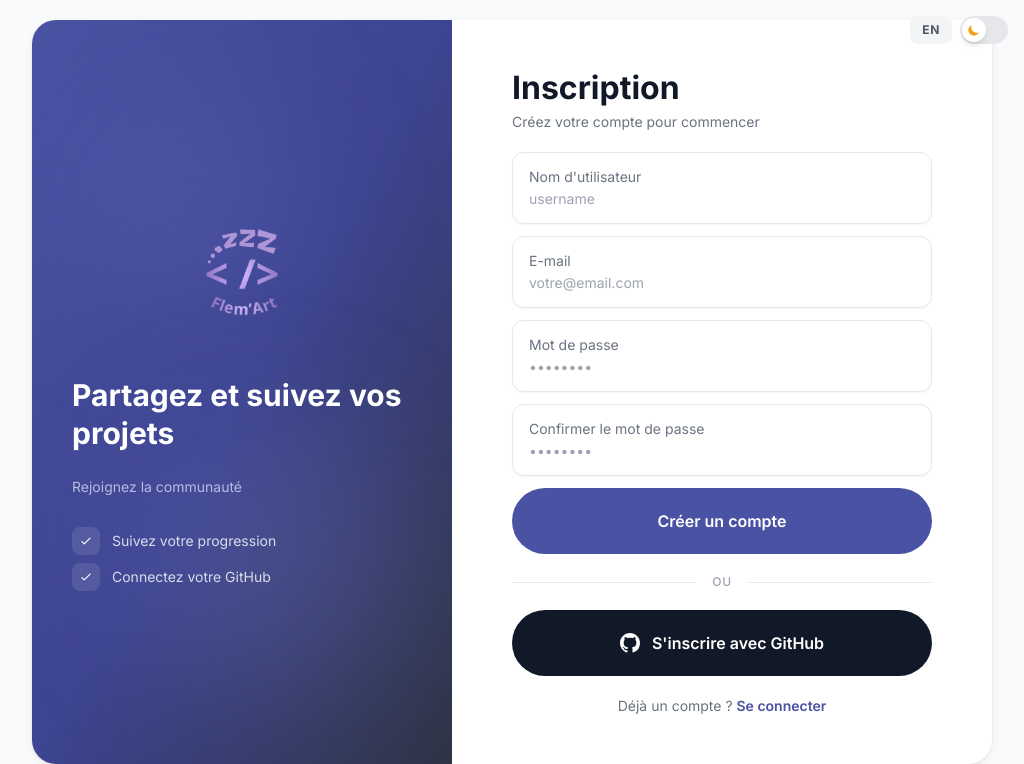
Register Component › should display an error message on failed registration
Type "testuser" into the field with placeholder "username".
click(722, 199); type("testuser")  # box [529,189,915,209]
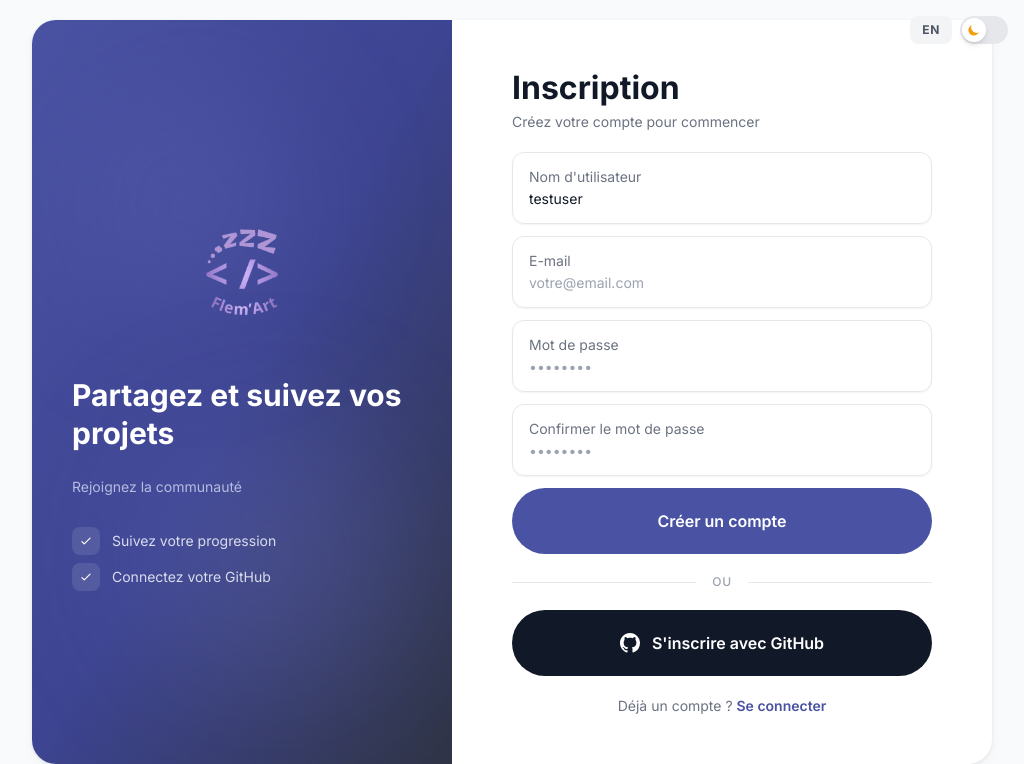
Type "test@example.com" into the field with placeholder "votre@email.com".
click(722, 283); type("test@example.com")  # box [529,273,915,293]
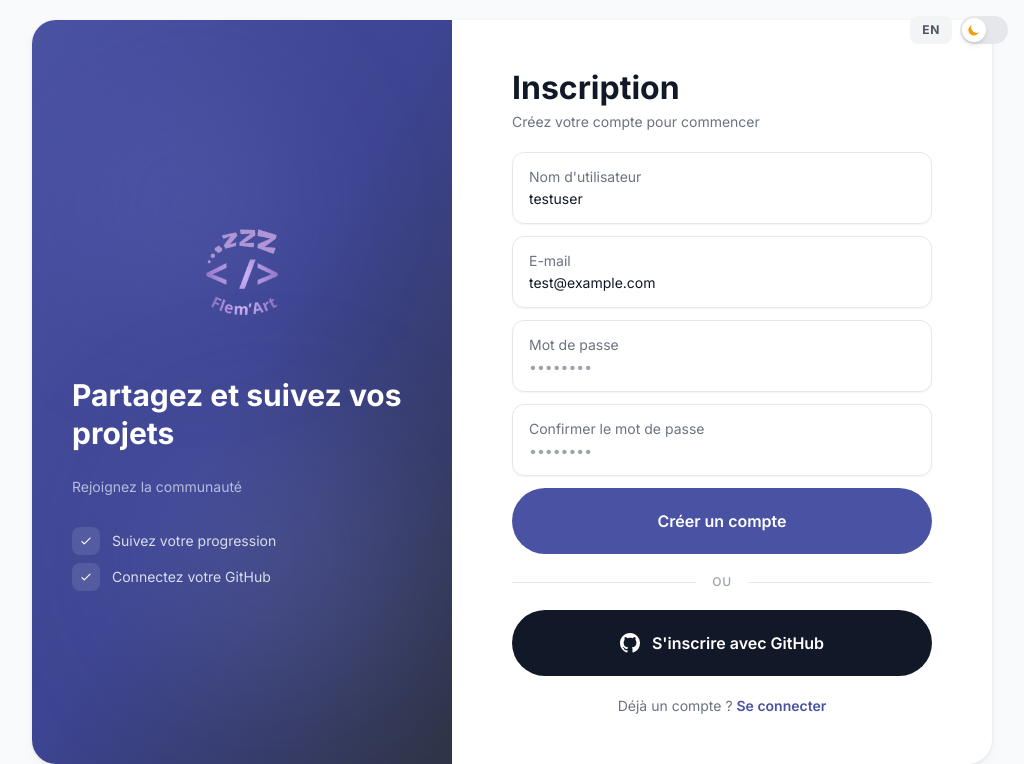
Type "password123" into the password field with placeholder "••••••••".
click(722, 367); type("password123")  # box [529,357,915,377]
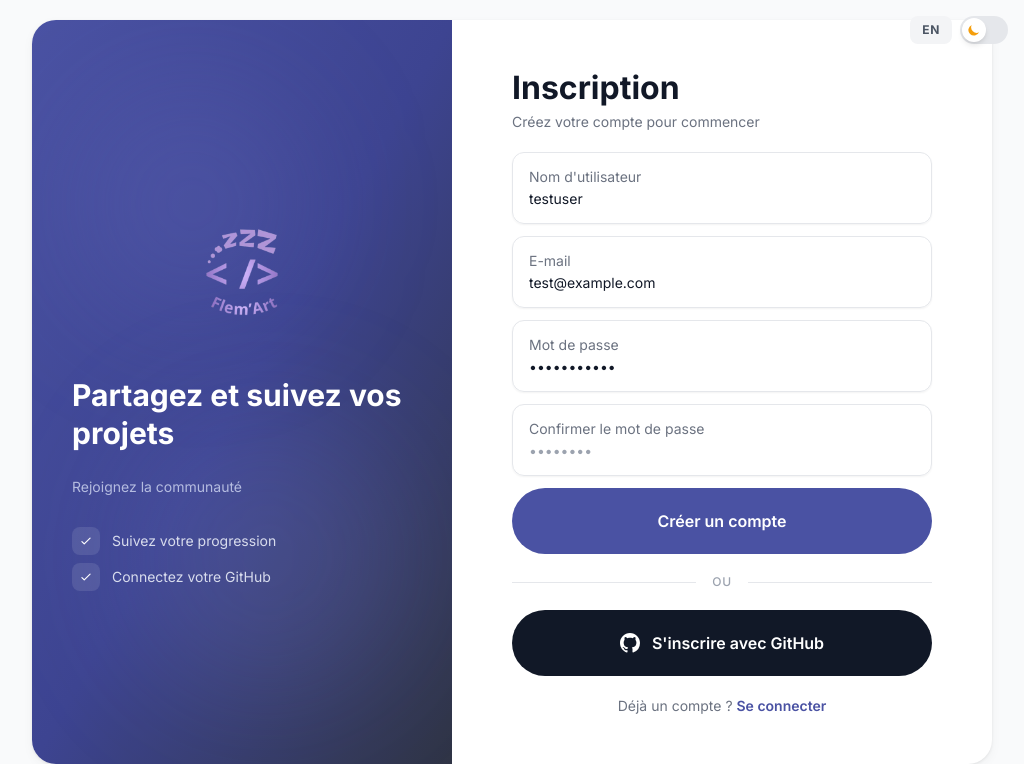
Type "password123" into the password field with placeholder "••••••••".
click(722, 451); type("password123")  # box [529,441,915,461]
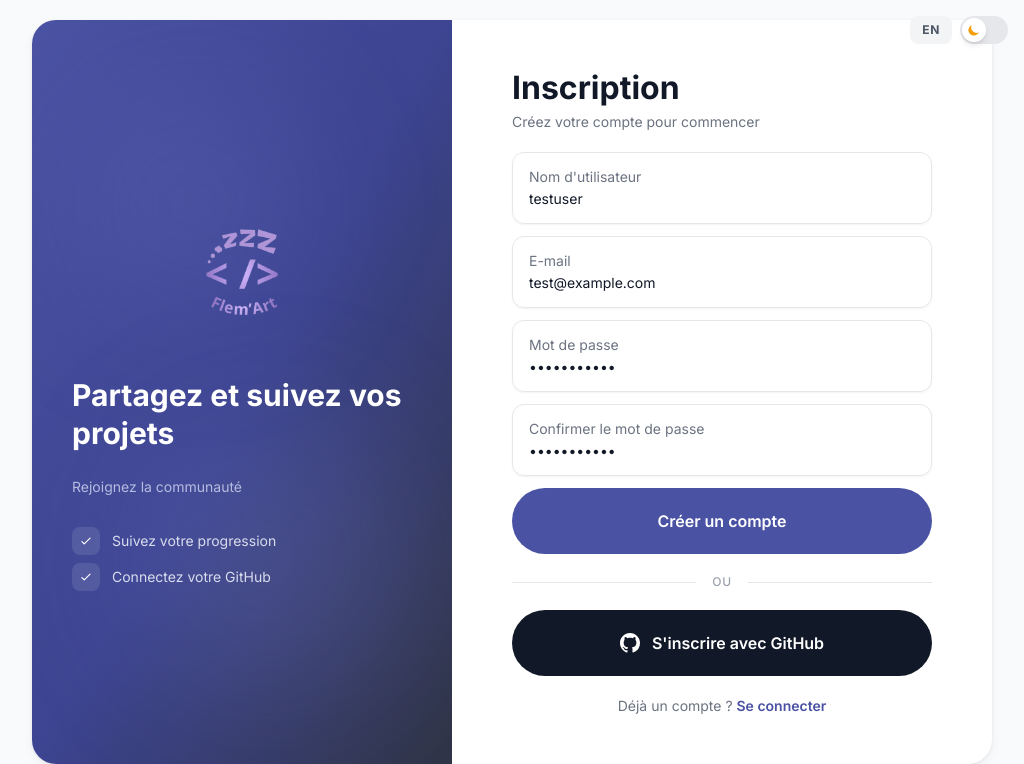
Click the button "Créer un compte".
click(722, 521)  # box [512,488,932,554]
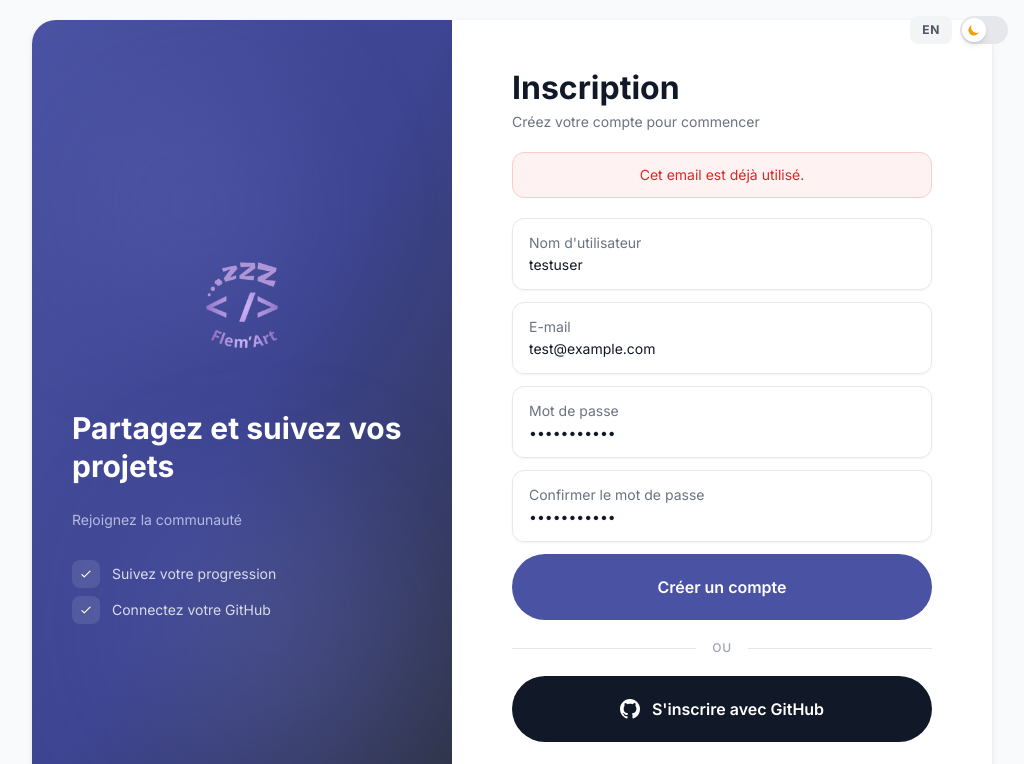
expect the text "Cet email est déjà utilisé." is shown: met, box [512,152,932,198]
